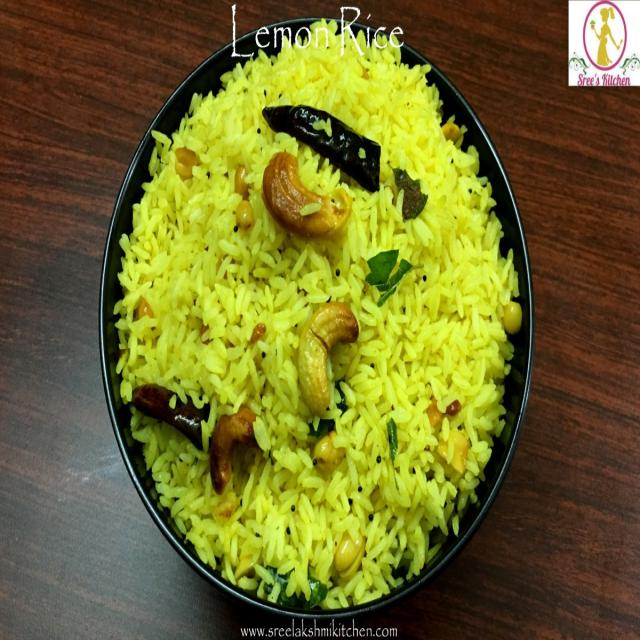lemon rice: (107, 2, 528, 620)
